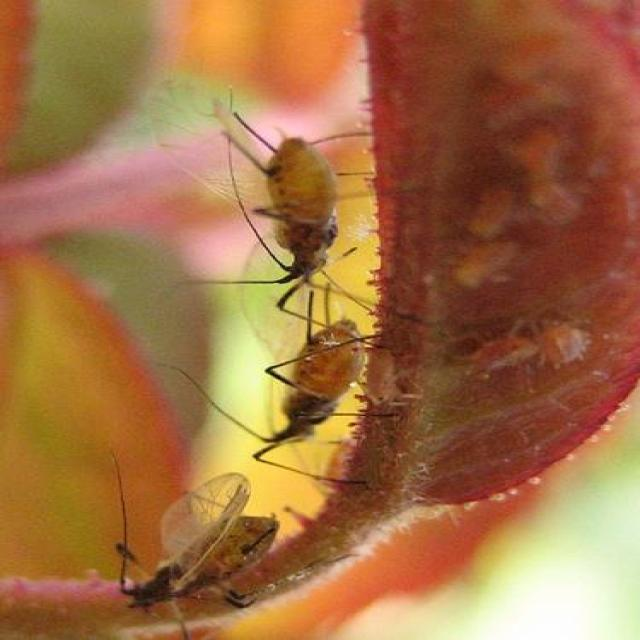Aphids: (190, 108, 418, 318), (196, 316, 437, 494), (99, 491, 317, 624)
